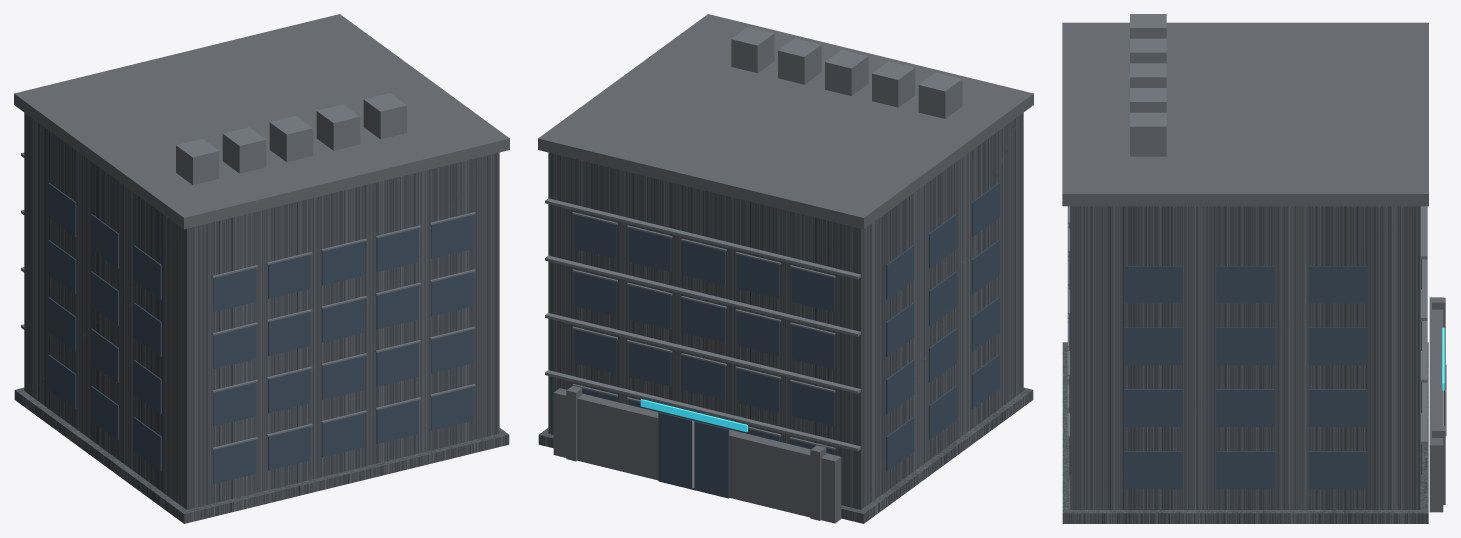
The model's file is loot_market.glb.
The picture shows the model from 3 angles, left to right: view 1: azimuth 30°, elevation 25°; view 2: azimuth 150°, elevation 25°; view 3: azimuth 270°, elevation 25°; orthographic projection. The views are drawn at different scales.
Visible parts, largest first — view 1: facade_2, roof_truss_111, foundation_1, roof_equipment_121, roof_equipment_120, roof_equipment_122, roof_equipment_123, roof_equipment_119, inset_window_98, inset_window_48, inset_window_75, inset_window_15 (+28 smaller); view 2: facade_2, roof_truss_111, ground_portico_113, glass_entry_114, foundation_1, horizontal_structural_band_29, horizontal_structural_band_110, horizontal_structural_band_83, horizontal_structural_band_56, roof_equipment_119, roof_equipment_122, roof_equipment_120 (+32 smaller); view 3: facade_2, roof_truss_111, foundation_1, ground_portico_113, window_side_wall_80, window_side_wall_82, window_side_wall_78, window_side_wall_24, window_side_wall_26, window_side_wall_28, window_side_wall_51, window_side_wall_53 (+12 smaller).
Part boxes in pixels (bbox=[...]): facade_2: bbox=[24, 113, 499, 509]; roof_truss_111: bbox=[14, 14, 509, 229]; foundation_1: bbox=[14, 387, 509, 523]; roof_equipment_121: bbox=[269, 116, 313, 162]; roof_equipment_120: bbox=[222, 127, 266, 173]; roof_equipment_122: bbox=[316, 104, 360, 150]; roof_equipment_123: bbox=[363, 93, 406, 139]; roof_equipment_119: bbox=[176, 138, 219, 184]; inset_window_98: bbox=[322, 241, 364, 285]; inset_window_48: bbox=[431, 329, 473, 373]; inset_window_75: bbox=[431, 272, 473, 316]; inset_window_15: bbox=[268, 426, 310, 470]; facade_2: bbox=[548, 113, 1023, 509]; roof_truss_111: bbox=[538, 14, 1033, 229]; ground_portico_113: bbox=[553, 388, 841, 523]; glass_entry_114: bbox=[658, 412, 729, 498]; foundation_1: bbox=[538, 387, 1033, 523]; horizontal_structural_band_29: bbox=[545, 370, 860, 451]; horizontal_structural_band_110: bbox=[545, 198, 860, 279]; horizontal_structural_band_83: bbox=[545, 255, 860, 336]; horizontal_structural_band_56: bbox=[545, 313, 860, 393]; roof_equipment_119: bbox=[918, 72, 962, 118]; roof_equipment_122: bbox=[778, 38, 821, 84]; roof_equipment_120: bbox=[872, 61, 915, 107]; facade_2: bbox=[1070, 206, 1420, 509]; roof_truss_111: bbox=[1062, 22, 1428, 206]; foundation_1: bbox=[1062, 342, 1428, 523]; ground_portico_113: bbox=[1429, 297, 1443, 512]; window_side_wall_80: bbox=[1216, 327, 1274, 365]; window_side_wall_82: bbox=[1124, 327, 1182, 365]; window_side_wall_78: bbox=[1308, 327, 1366, 365]; window_side_wall_24: bbox=[1308, 451, 1366, 488]; window_side_wall_26: bbox=[1216, 451, 1274, 488]; window_side_wall_28: bbox=[1124, 451, 1182, 488]; window_side_wall_51: bbox=[1308, 389, 1366, 426]; window_side_wall_53: bbox=[1216, 389, 1274, 426].
Bounding box in the file's own units: 10.42 × 10.2 × 9.88.
Materials: 6 (1 with a texture image).
